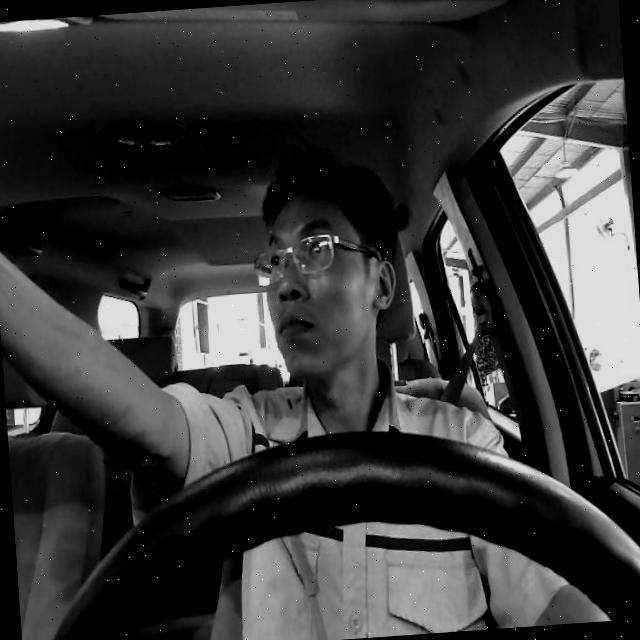focused: (249, 181, 401, 381)
